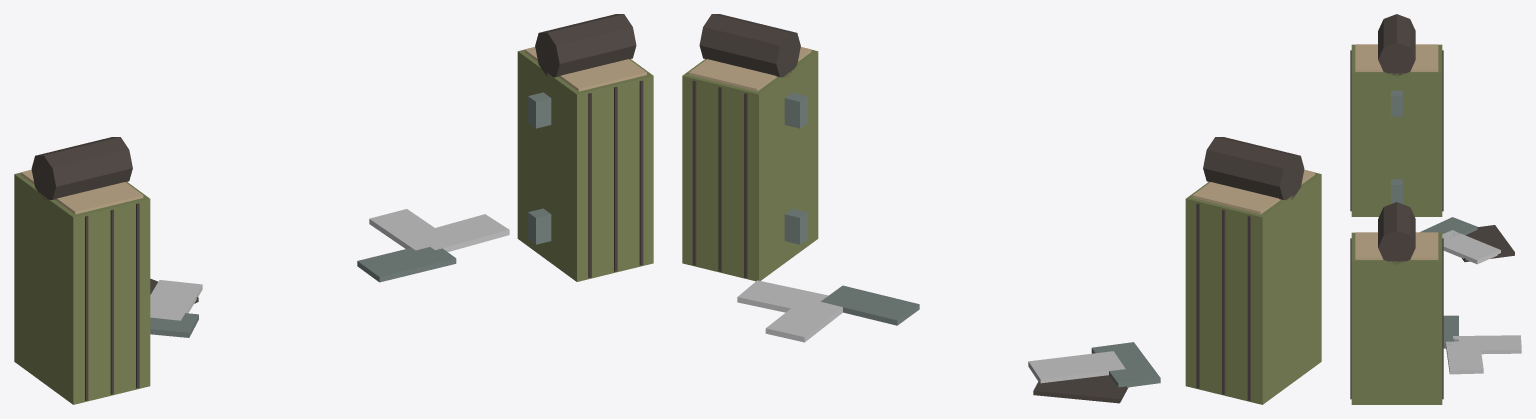
The model's file is SM_PuertaVia_v3_MallaEspino_e3_Brecha_LOD0.fbx.
The picture shows the model from 3 angles, left to right: view 1: azimuth 30°, elevation 25°; view 2: azimuth 150°, elevation 25°; view 3: azimuth 270°, elevation 25°; orthographic projection. The views are drawn at different scales.
Parts seen in each view (by area): view 1: SM_bloques.puerta_via_v15_LOD0, Hoja_E; view 2: SM_bloques.puerta_via_v15_LOD0, Hoja_E; view 3: SM_bloques.puerta_via_v15_LOD0, Hoja_O.
Part boxes in pixels (x1=…): SM_bloques.puerta_via_v15_LOD0: x1=14, y1=14, x2=653, y2=404; Hoja_E: x1=528, y1=92, x2=551, y2=244; SM_bloques.puerta_via_v15_LOD0: x1=682, y1=14, x2=1321, y2=404; Hoja_E: x1=784, y1=92, x2=807, y2=244; SM_bloques.puerta_via_v15_LOD0: x1=1350, y1=14, x2=1521, y2=404; Hoja_O: x1=1391, y1=90, x2=1402, y2=203.
Size of the model in its own units: 6.8 by 2.55 by 2.28.
